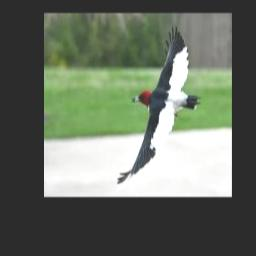Woodpecker: (117, 26, 201, 184)
